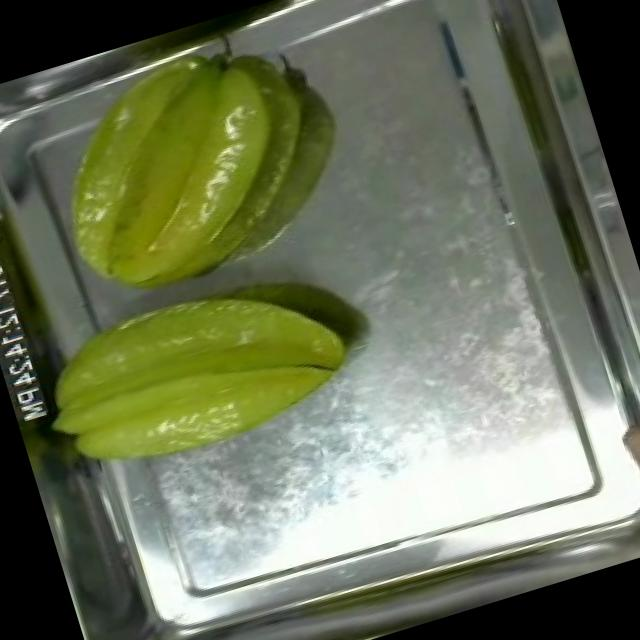fruit: (7, 5, 360, 327), (12, 234, 380, 501), (608, 404, 640, 554)
